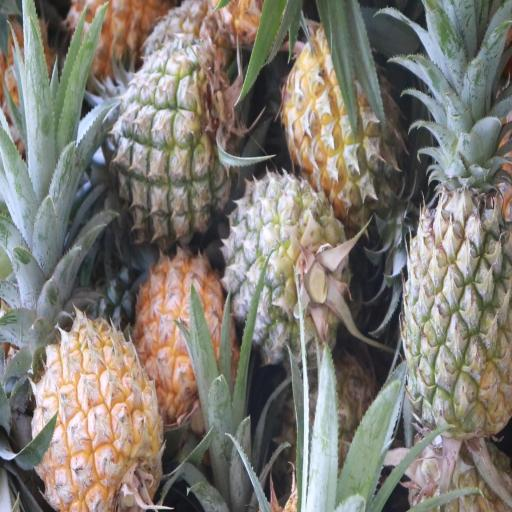------------------------------: (289, 41, 410, 229), (115, 58, 241, 234), (227, 173, 348, 352)
Pineapple - v8 v1: (33, 328, 167, 509), (139, 256, 236, 418), (75, 0, 170, 101)
